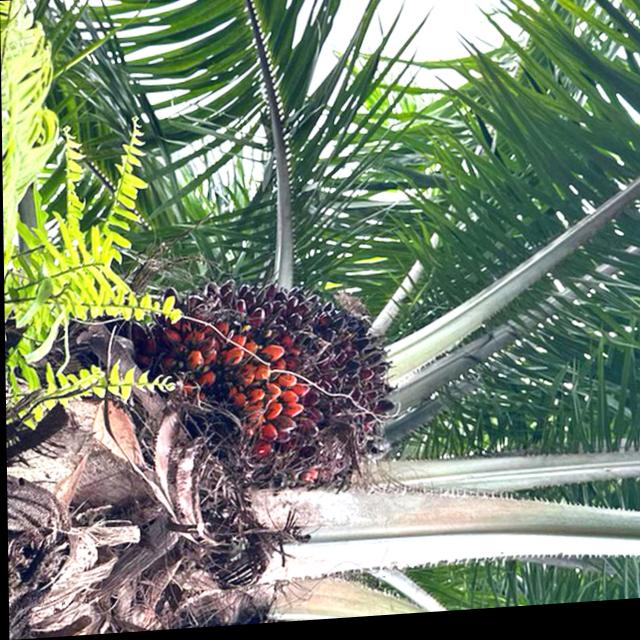ripe: (157, 269, 400, 493)
